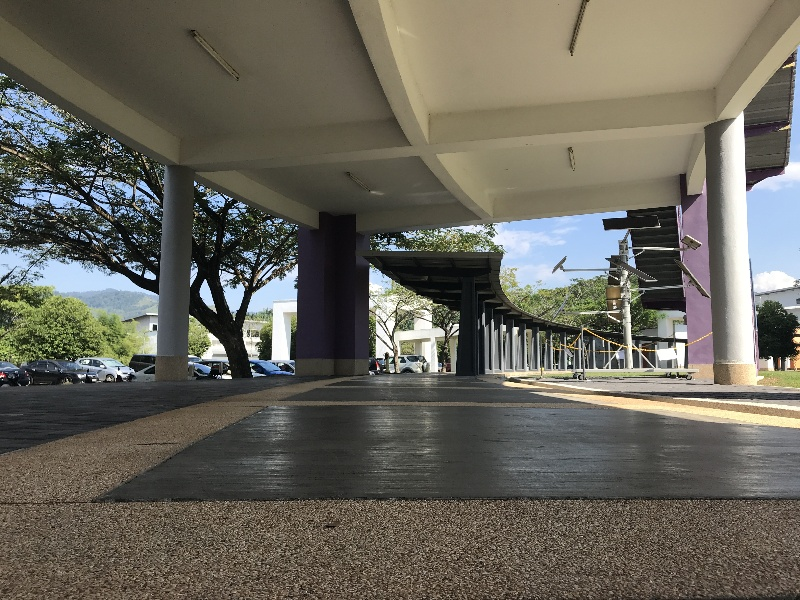Block D Pillar 5: (9, 2, 800, 518)
pillar: (695, 121, 773, 401), (275, 196, 379, 385), (145, 161, 205, 385), (668, 167, 721, 388), (451, 278, 486, 376)
